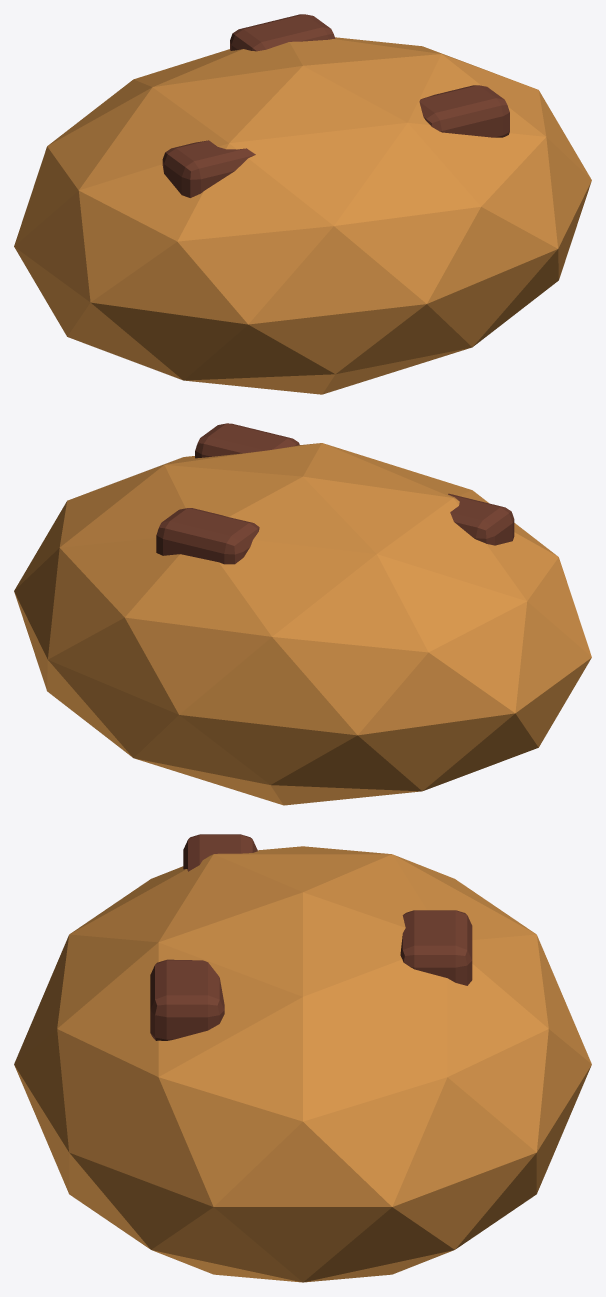
Rendered from cookie_dough.glb.
3 renders of one model, top to bottom at view 1: azimuth 30°, elevation 25°; view 2: azimuth 150°, elevation 25°; view 3: azimuth 270°, elevation 25°, orthographic. The views are drawn at different scales.
Visible parts, largest first — view 1: Mixture, Inclusion.001, Inclusion, Inclusion.002; view 2: Mixture, Inclusion.002, Inclusion.001, Inclusion; view 3: Mixture, Inclusion.001, Inclusion.002, Inclusion.
Boxes of the visible parts, x1,y1,x2,y2 form: Mixture: (14, 37, 591, 394); Inclusion.001: (419, 85, 509, 137); Inclusion: (162, 140, 255, 197); Inclusion.002: (230, 14, 335, 51); Mixture: (14, 443, 591, 805); Inclusion.002: (156, 508, 259, 564); Inclusion.001: (195, 423, 299, 458); Inclusion: (448, 493, 514, 545); Mixture: (14, 846, 591, 1282); Inclusion.001: (150, 959, 224, 1040); Inclusion.002: (400, 910, 472, 985); Inclusion: (183, 834, 257, 871).
Size of the model in its own units: 0.8179 by 0.46 by 0.7.
